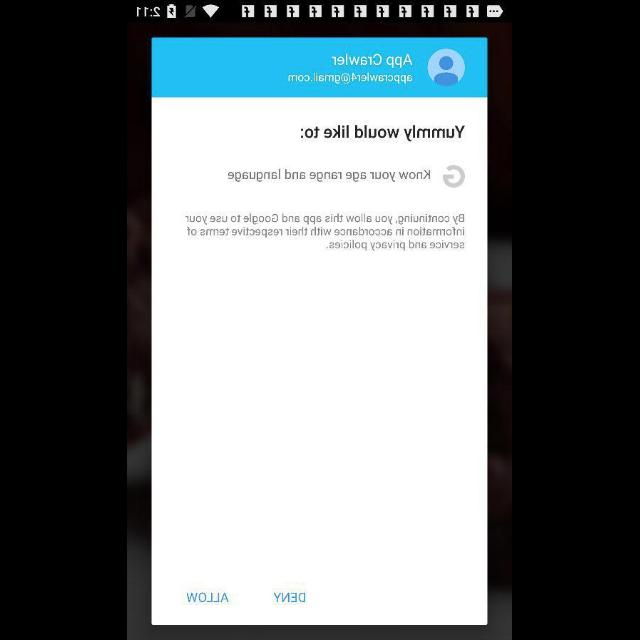icon: (428, 49, 466, 87)
panel: (152, 39, 488, 626)
text: (186, 212, 467, 252), (228, 168, 432, 184), (301, 124, 467, 142), (289, 72, 413, 86), (332, 52, 412, 70), (442, 165, 466, 189), (188, 592, 230, 604), (274, 592, 306, 602)
uppertaskbar: (128, 1, 512, 23)
